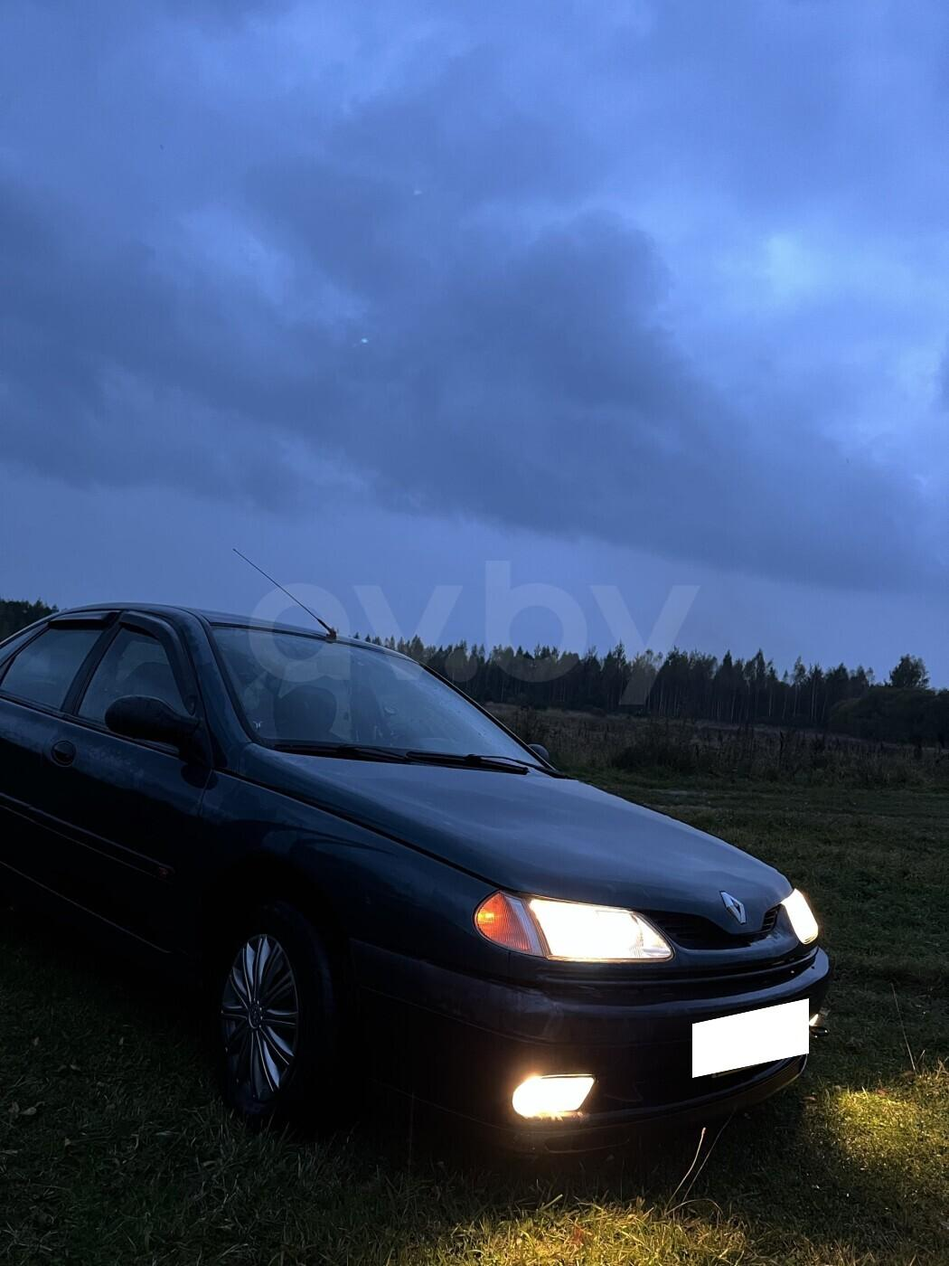Lahuna_1993-1999: (0, 597, 835, 1165)
